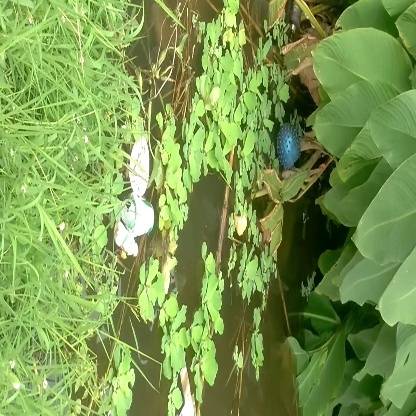ball: (269, 124, 307, 171)
bottle: (116, 191, 164, 237)
